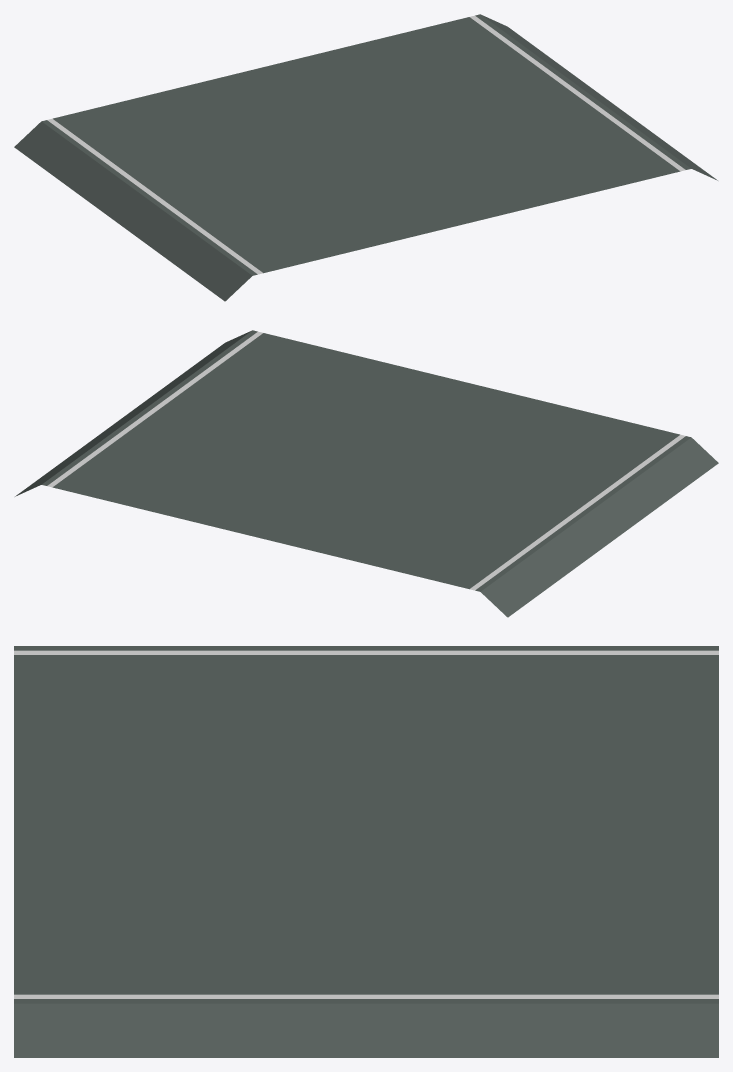
File: Straight.fbx
3 renders of one model, top to bottom at view 1: azimuth 30°, elevation 25°; view 2: azimuth 150°, elevation 25°; view 3: azimuth 270°, elevation 25°, orthographic. The views are drawn at different scales.
Visible parts, largest first — view 1: Road; view 2: Road; view 3: Road.
Part boxes in pixels (x1,y1,x2,y2): Road: (14, 14, 717, 301); Road: (15, 330, 718, 617); Road: (14, 646, 718, 1057).
Bounding box in the file's own units: 27 × 1 × 20.
